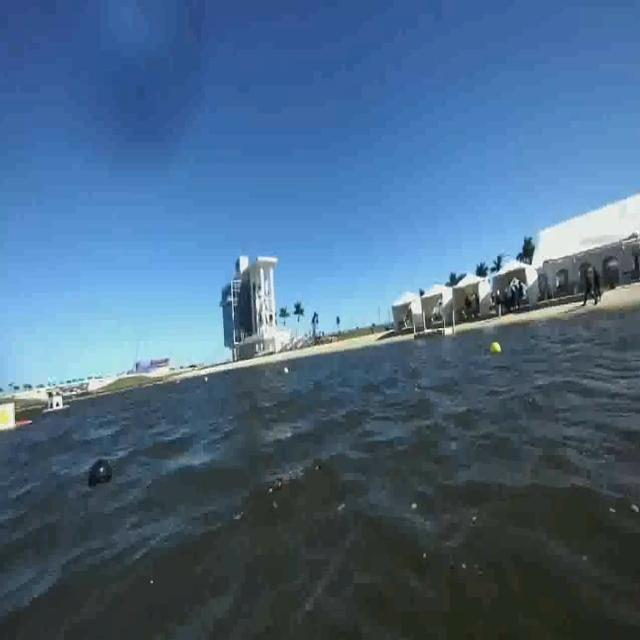black-buoy: (90, 456, 110, 491)
yellow-buoy: (490, 342, 502, 356)
